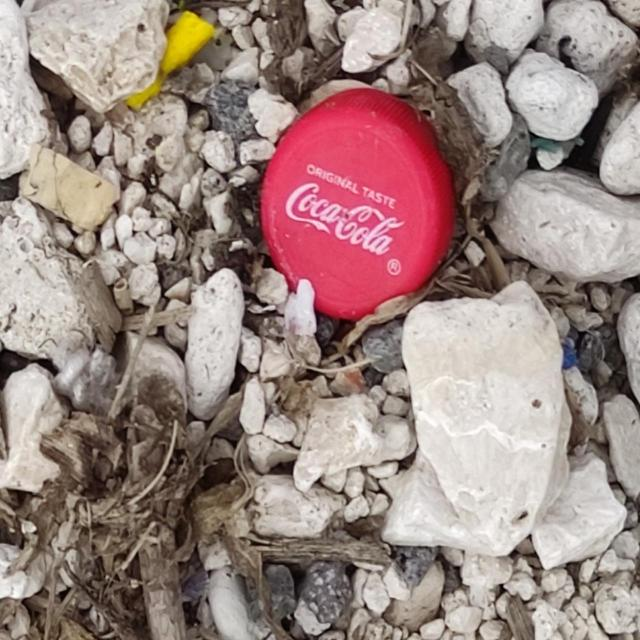plastic_waste: (258, 86, 460, 324)
